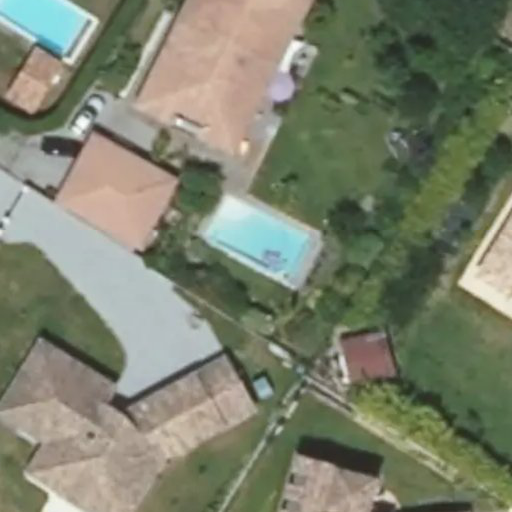pool: (212, 200, 309, 277), (1, 1, 92, 60)
